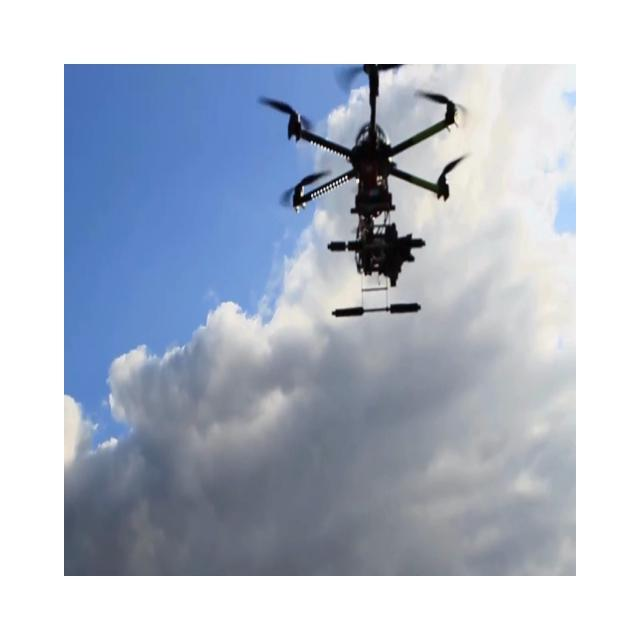drone: (257, 63, 470, 317)
